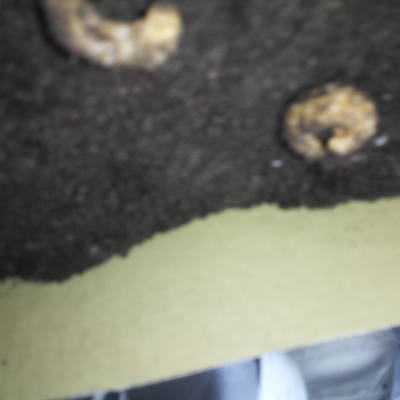eggs: (35, 1, 193, 79), (271, 78, 385, 167)
